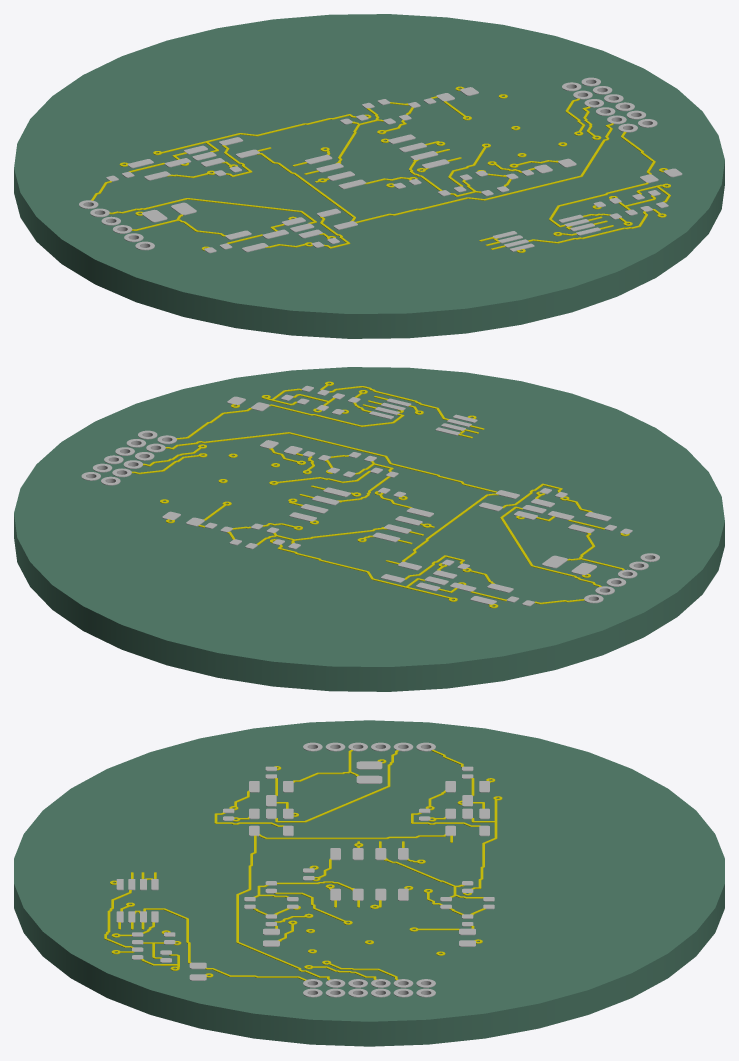
The model's file is AB1B_with_components.glb.
3 renders of one model, top to bottom at view 1: azimuth 30°, elevation 25°; view 2: azimuth 150°, elevation 25°; view 3: azimuth 270°, elevation 25°, orthographic.
Visible parts, largest first — view 1: =>[0:1:1:5], =>[0:1:1:3], =>[0:1:1:2]; view 2: =>[0:1:1:5], =>[0:1:1:3], =>[0:1:1:2]; view 3: =>[0:1:1:5], =>[0:1:1:3], =>[0:1:1:2].
Part boxes in pixels (x1=…): =>[0:1:1:5]: x1=14, y1=14, x2=724, y2=338; =>[0:1:1:3]: x1=79, y1=77, x2=682, y2=253; =>[0:1:1:2]: x1=91, y1=86, x2=670, y2=252; =>[0:1:1:5]: x1=14, y1=367, x2=724, y2=691; =>[0:1:1:3]: x1=81, y1=385, x2=659, y2=606; =>[0:1:1:2]: x1=132, y1=381, x2=629, y2=608; =>[0:1:1:5]: x1=14, y1=720, x2=724, y2=1046; =>[0:1:1:3]: x1=116, y1=742, x2=494, y2=997; =>[0:1:1:2]: x1=104, y1=749, x2=502, y2=980.
Bounding box in the file's own units: 0.04 × 0.00162 × 0.0399.
